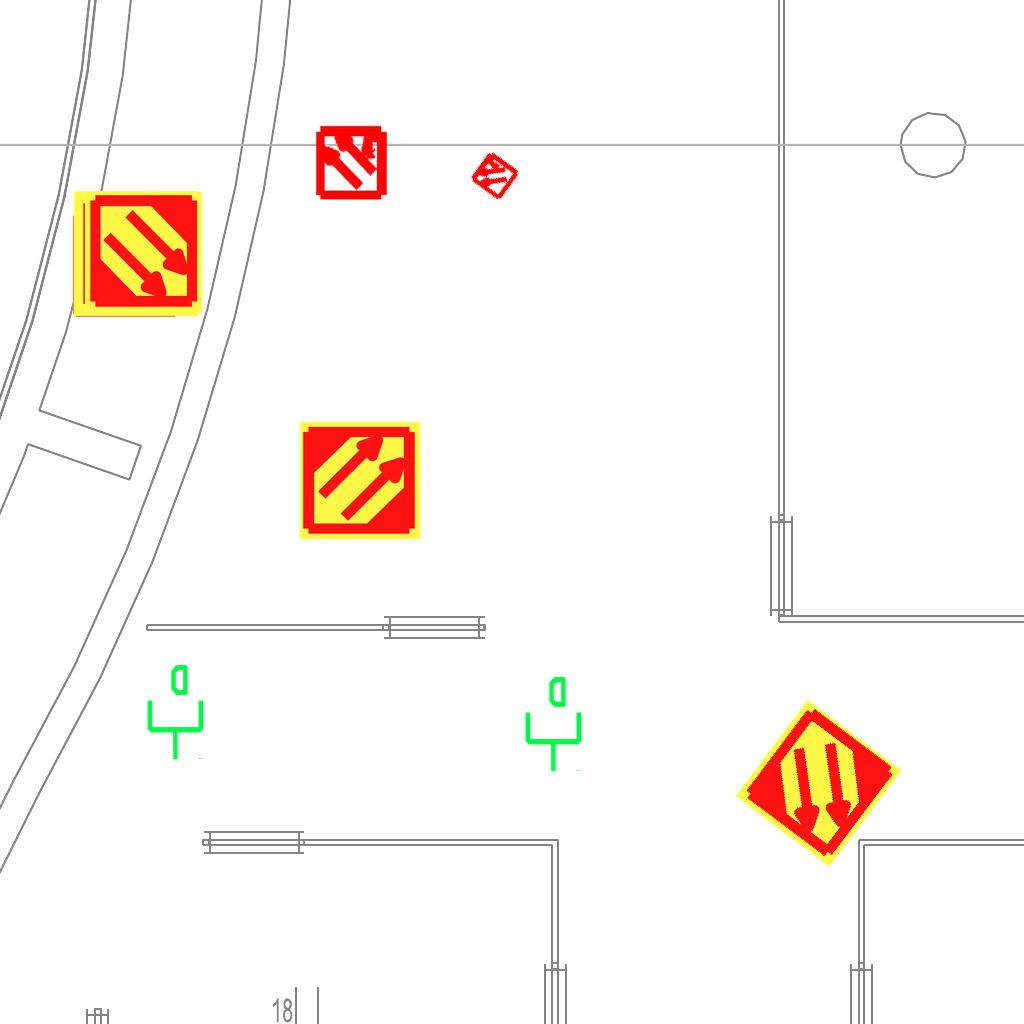ASR_Ansaugrauchmelder: (730, 695, 907, 872), (298, 418, 423, 543), (81, 190, 206, 315)
Datenanschluss_einfach: (517, 674, 586, 774), (139, 662, 208, 762)
OKW_Multisensormelder_(Kombination_optischer_Rauch-Kahlenmonoxid_Waerme-Melder): (71, 188, 203, 320)
OT_Multisensormelder_(Kombination_RMO_WMD): (295, 104, 408, 217), (454, 135, 534, 215)
